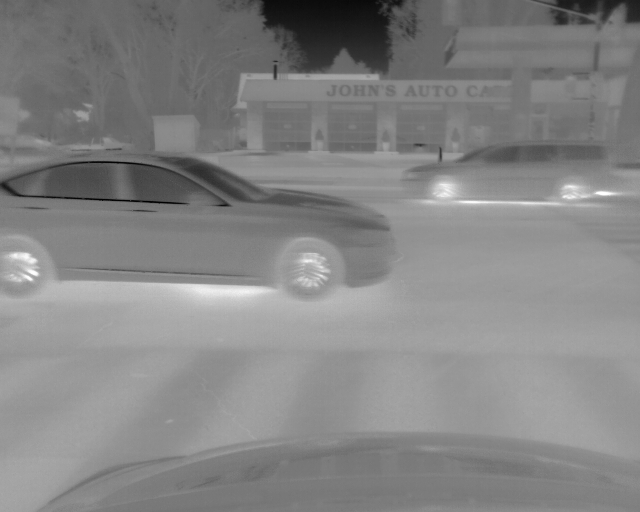car: (1, 147, 398, 302), (399, 140, 615, 202)
